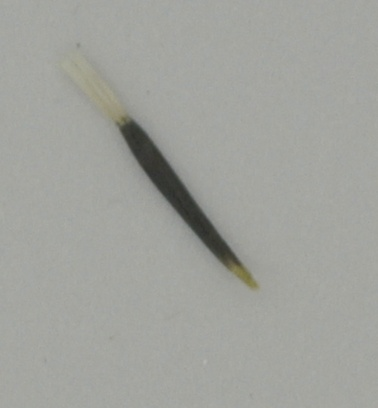เมล็ดดีเรียวยาว: (55, 36, 265, 296)
